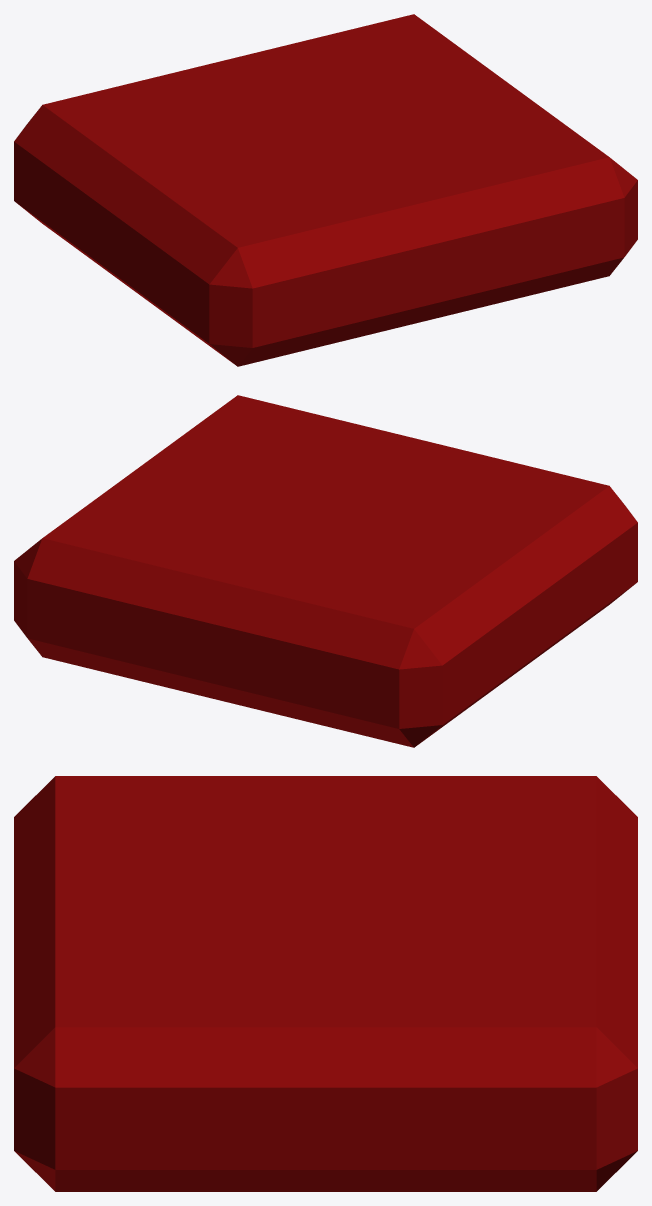
The model's file is CoussinText.fbx.
3 views of the same model, one above another, from view 1: azimuth 30°, elevation 25°; view 2: azimuth 150°, elevation 25°; view 3: azimuth 270°, elevation 25° (orthographic). The views are drawn at different scales.
Visible parts, largest first — view 1: pCube1; view 2: pCube1; view 3: pCube1.
Part boxes in pixels (left/top/right/bottom): pCube1: left=14, top=14, right=637, bottom=366; pCube1: left=14, top=395, right=637, bottom=747; pCube1: left=14, top=776, right=637, bottom=1191.
Size of the model in its own units: 395 by 105 by 360.
